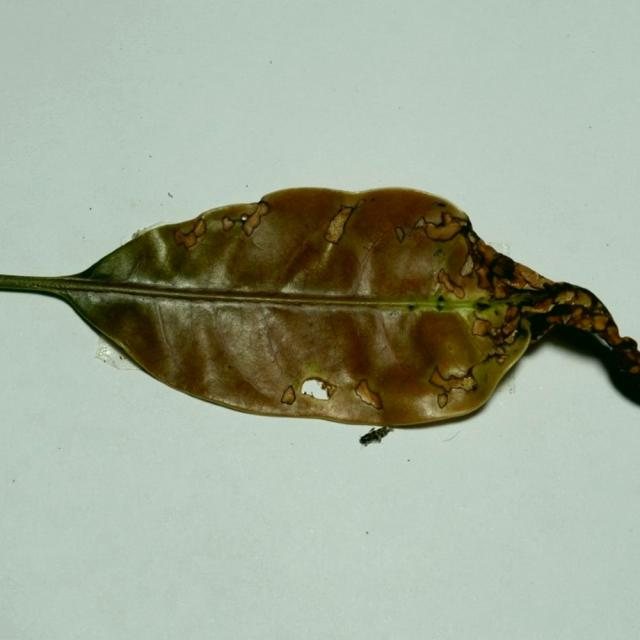Anthracnose: (0, 189, 639, 448), (411, 212, 488, 292), (174, 199, 269, 251), (394, 208, 468, 247), (427, 364, 481, 408), (324, 199, 364, 245), (287, 375, 340, 405), (473, 304, 513, 334), (173, 217, 207, 250), (353, 378, 384, 411), (481, 341, 514, 366), (280, 385, 296, 405), (437, 392, 449, 409), (394, 226, 405, 244)
